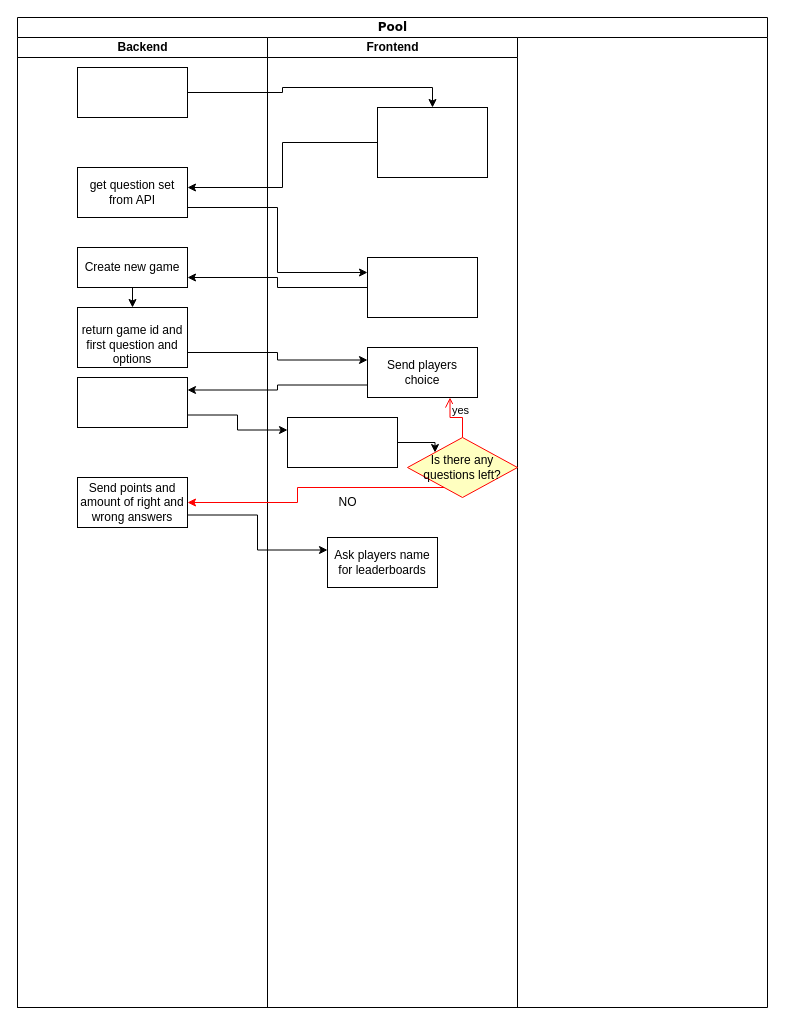
This 785x1025 diagram has some shape labels left out. The centre of each missing label's shape, as x and y in pixels:
"Check if answer is correct and return bool yes or no" belongs at (132,402).
"Get categories and return them" belongs at (132,92).
"Return playerChoices" belongs at (422,287).
"Show result and get next question" belongs at (342,442).
"ShowCategory and Difficulty. send choices to backend" belongs at (432,142).
